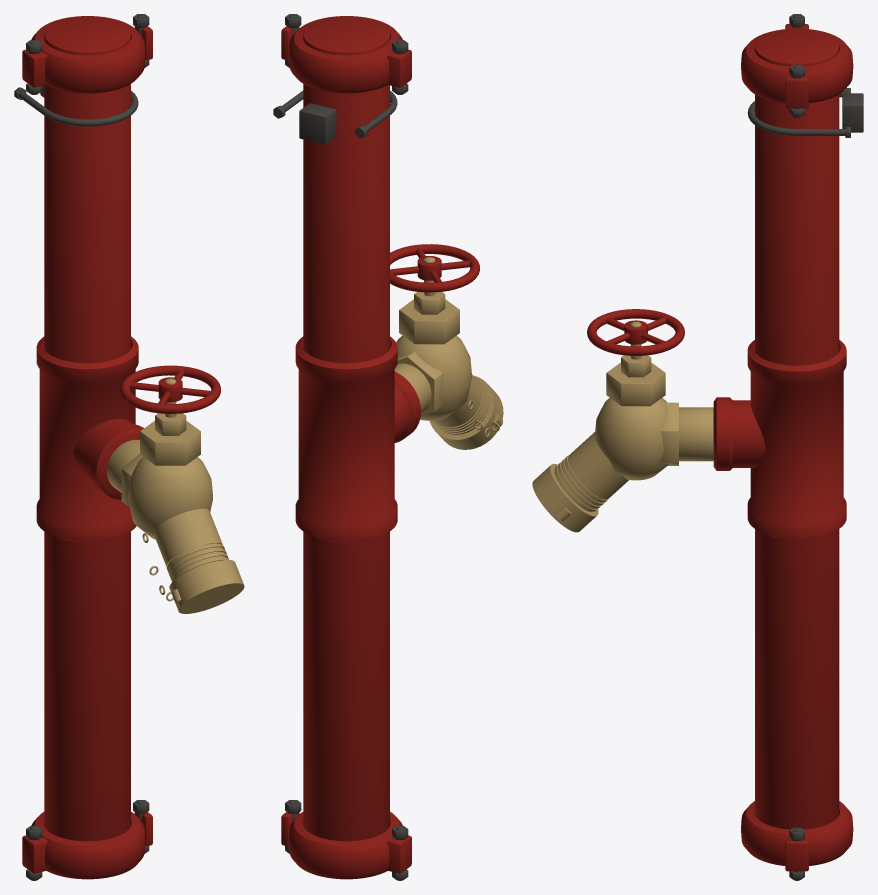
The model's file is Kit_StandpipeHoseValve.fbx.
3 views of the same model, side by side, from view 1: azimuth 30°, elevation 25°; view 2: azimuth 150°, elevation 25°; view 3: azimuth 270°, elevation 25° (orthographic). The views are drawn at different scales.
Visible parts, largest first — view 1: Kit_StandpipeHoseValve_LOD0; view 2: Kit_StandpipeHoseValve_LOD0; view 3: Kit_StandpipeHoseValve_LOD0.
Boxes of the visible parts, x1=… form: Kit_StandpipeHoseValve_LOD0: x1=14, y1=14, x2=244, y2=880; Kit_StandpipeHoseValve_LOD0: x1=273, y1=14, x2=503, y2=880; Kit_StandpipeHoseValve_LOD0: x1=532, y1=14, x2=863, y2=880.
Size of what is drawn, in the model's own units: 0.1823 by 1.22 by 0.4485.
